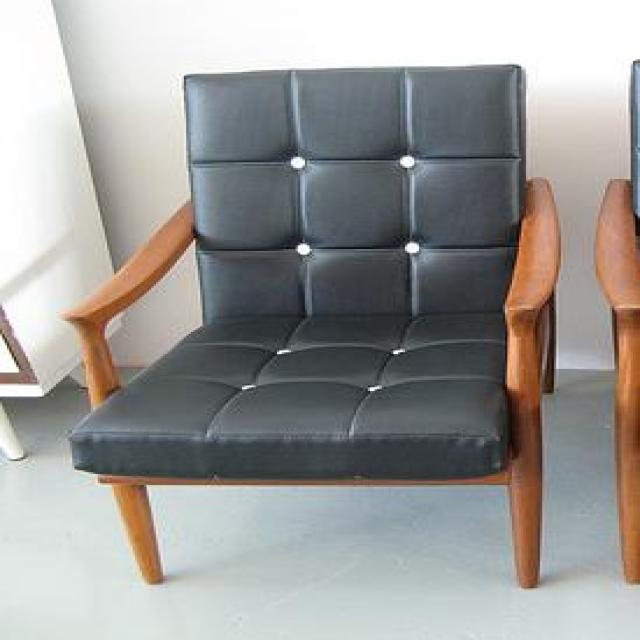chair: (66, 60, 564, 588)
